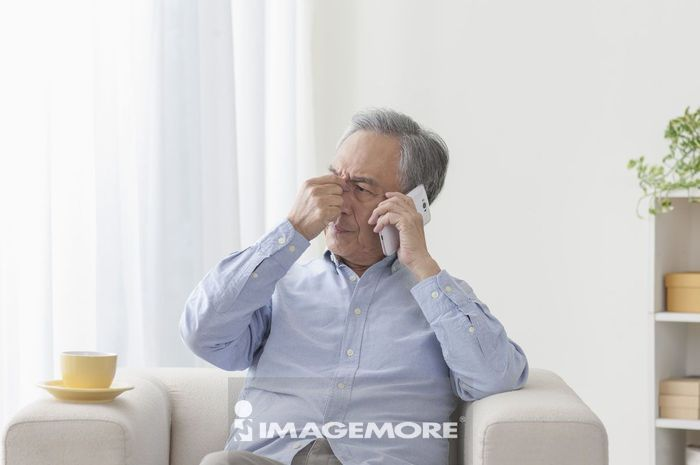phone: (375, 182, 432, 259)
talk: (319, 160, 437, 278)
